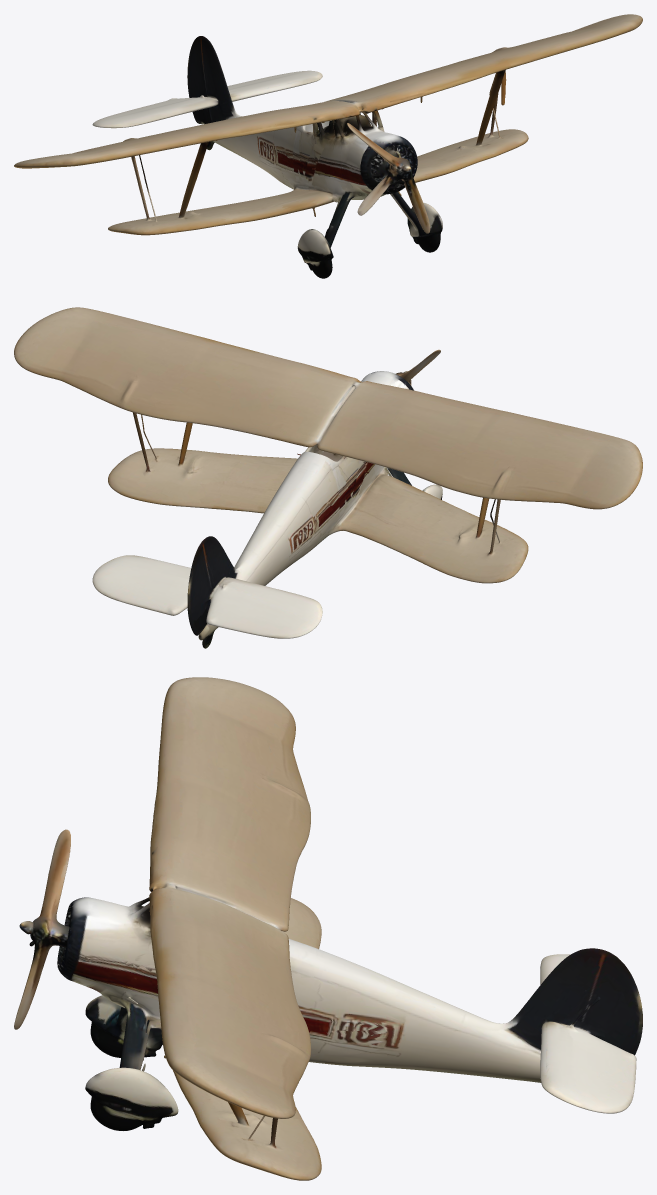
3 views of the same model, one above another, from view 1: azimuth 30°, elevation 25°; view 2: azimuth 150°, elevation 25°; view 3: azimuth 270°, elevation 25° (orthographic). The views are drawn at different scales.
Parts seen in each view (by area): view 1: body, prop; view 2: body; view 3: body, prop.
Boxes of the visible parts, box(x1,y1,x2,y2) form: body: box(14, 14, 642, 278); prop: box(347, 123, 430, 233); body: box(14, 307, 642, 648); body: box(56, 677, 642, 1180); prop: box(14, 829, 70, 1029).
Bounding box in the file's own units: 1.16 × 0.3121 × 0.7318.
Materials: 1 (1 with a texture image).
